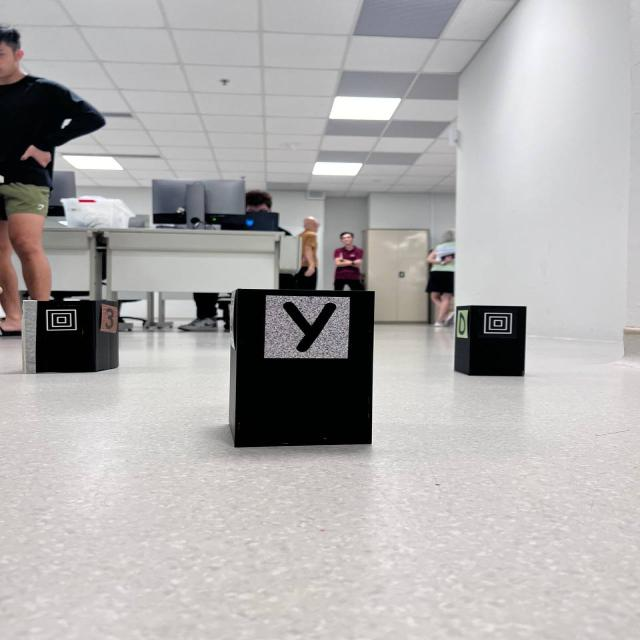D_id23: (456, 310, 468, 338)
Y_id34: (262, 294, 352, 361)
bullseye-id10: (40, 306, 83, 334), (479, 309, 517, 338)
three_id13: (102, 303, 119, 333)
